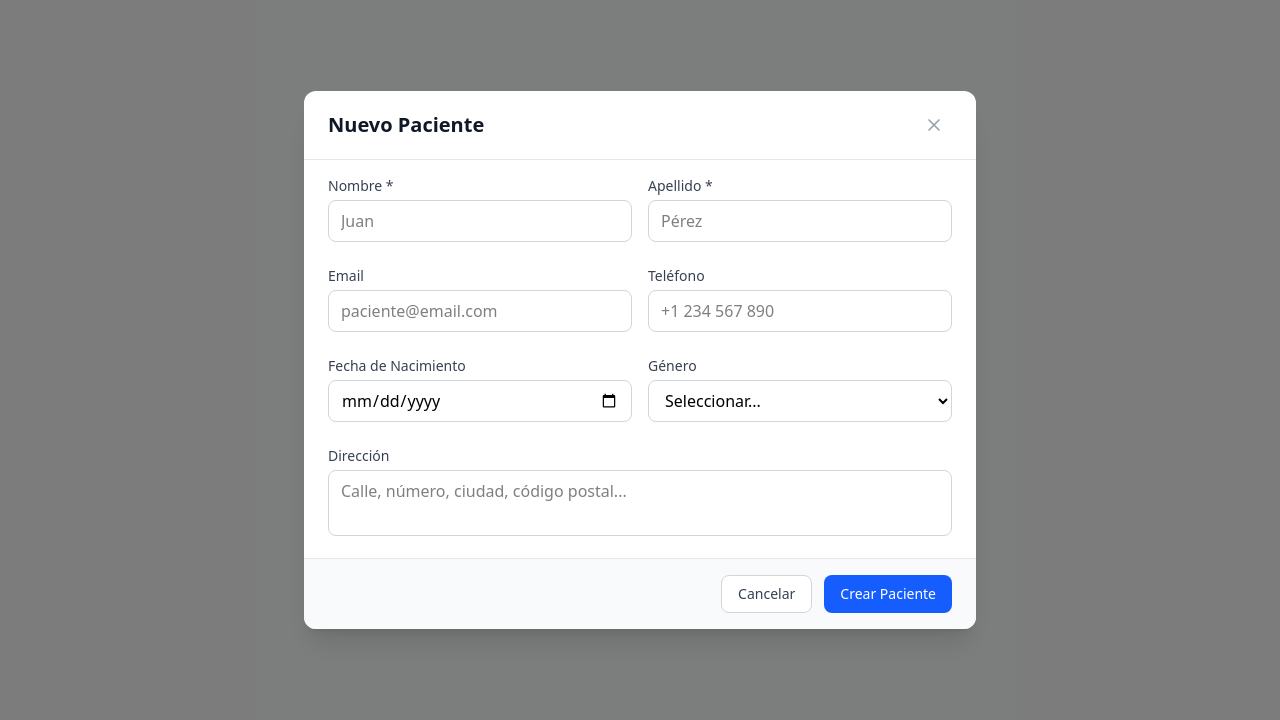
it: PatientFormModal › form submission › should show loading spinner while submitting
Type "John" into the field with placeholder "Juan" at [480, 221], box [328, 200, 632, 242]
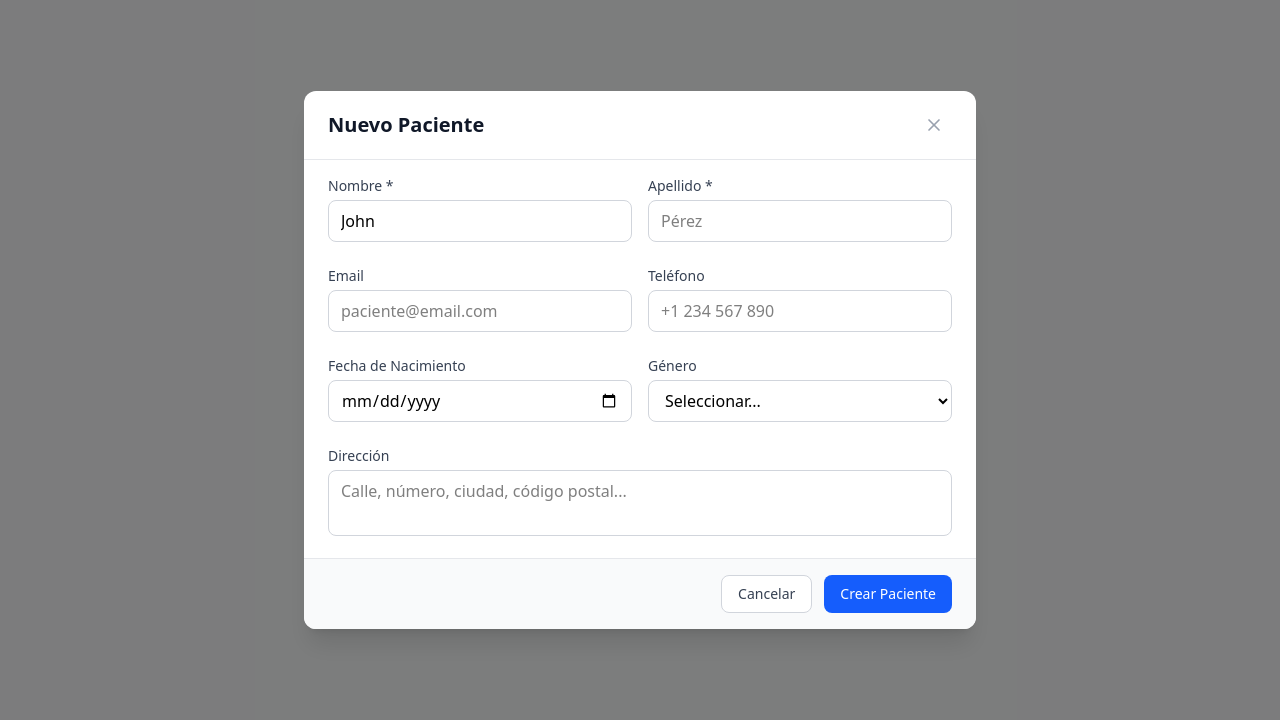
Type "Doe" into the field with placeholder "Pérez" at [800, 221], box [648, 200, 952, 242]
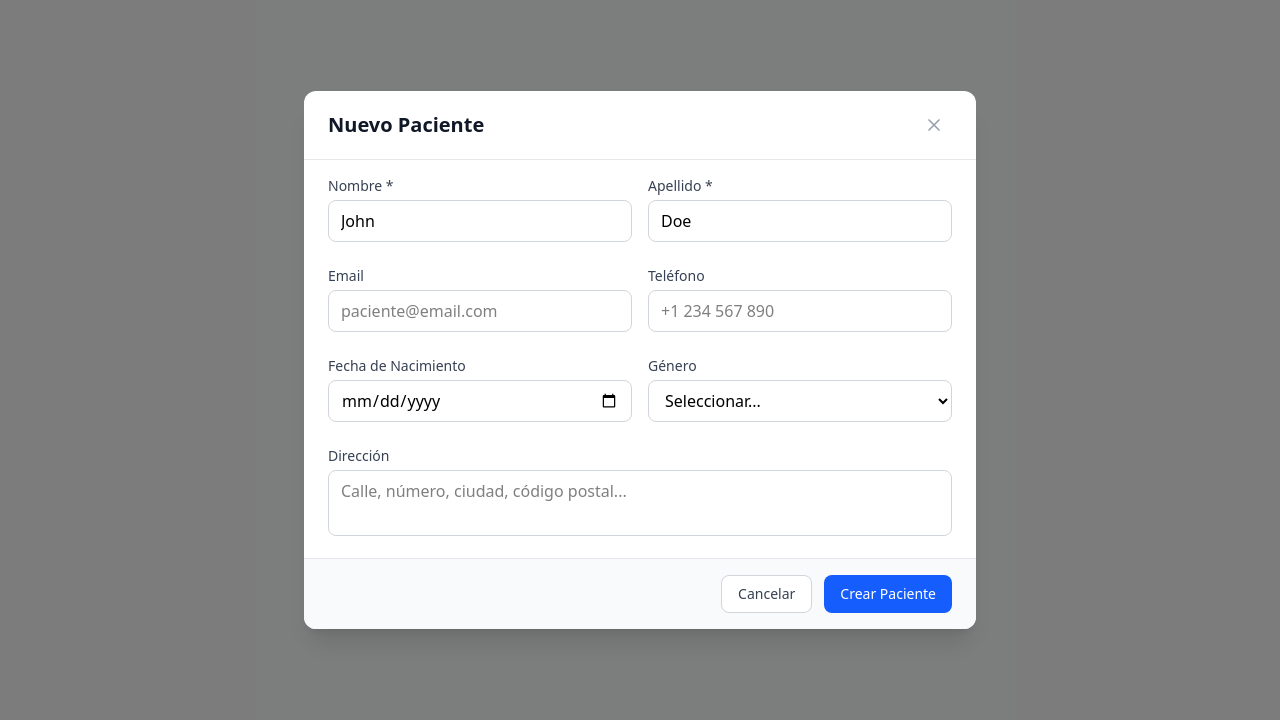
Click the button "Crear Paciente" at [888, 594], box [824, 575, 952, 613]
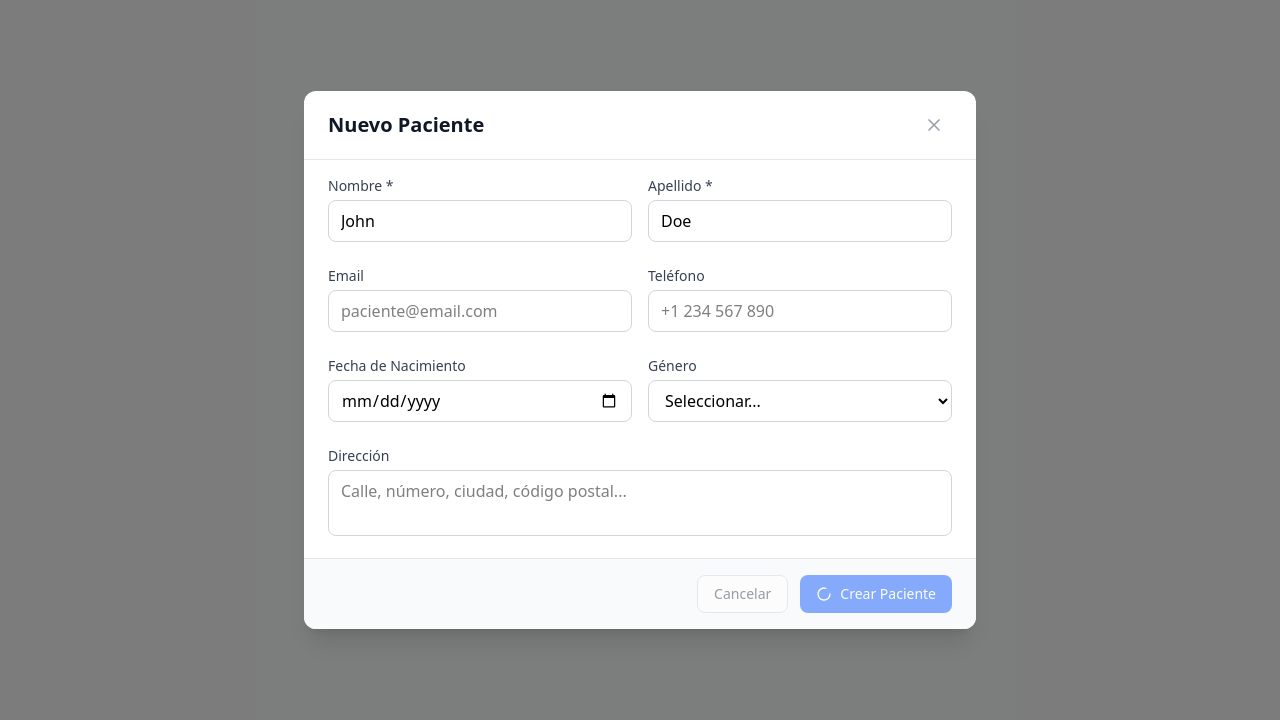
Now the icon with class "animate-spin" is shown, box [816, 586, 832, 602]
